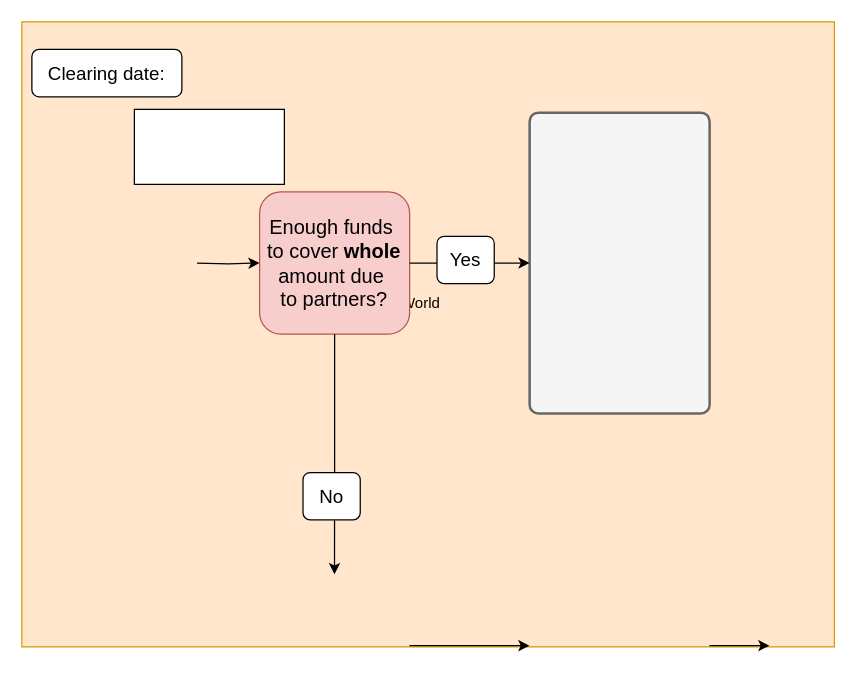
Some shapes in this 856 by 678 pixel diagram are drawn without their labels. Here are the shapes that lost their labels. From the top down, the centre of each, then its label:
At point (208, 146): "Link".
At point (619, 262): "Partners paid out".
